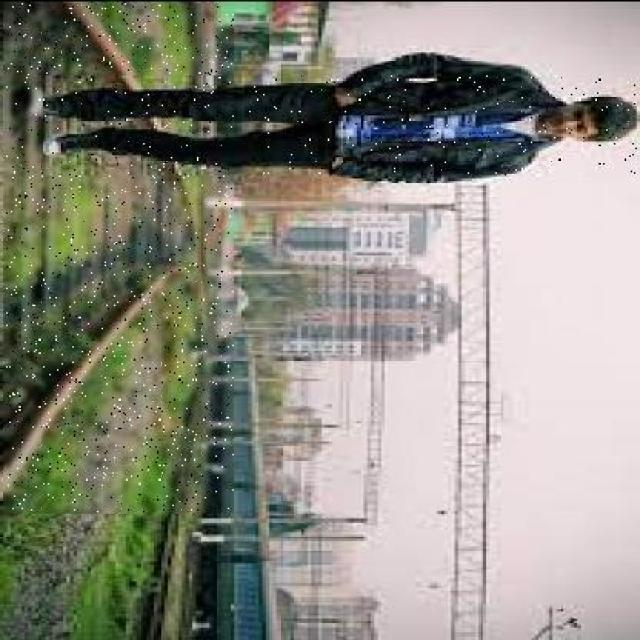danger: (43, 74, 637, 174)
rail: (6, 2, 233, 508)
